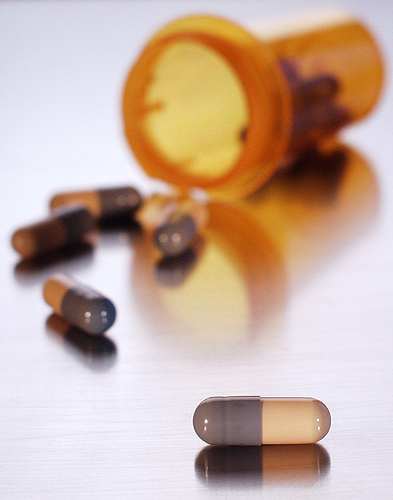pill bottle: (116, 6, 388, 207)
